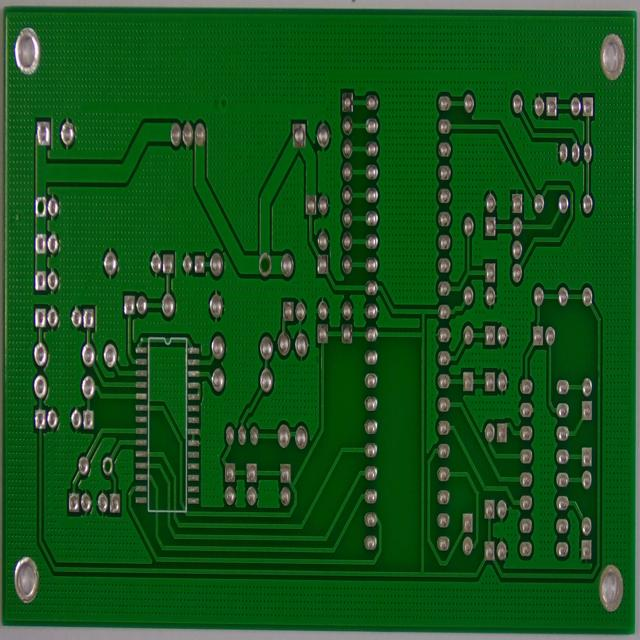missing_hole: (257, 250, 272, 278), (101, 451, 113, 476), (34, 194, 46, 218)
